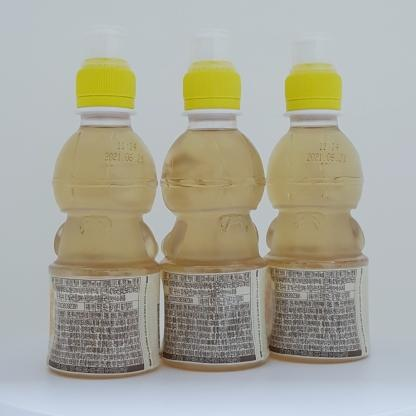--------220ML: (46, 24, 162, 380), (160, 28, 269, 374), (265, 33, 370, 365)
